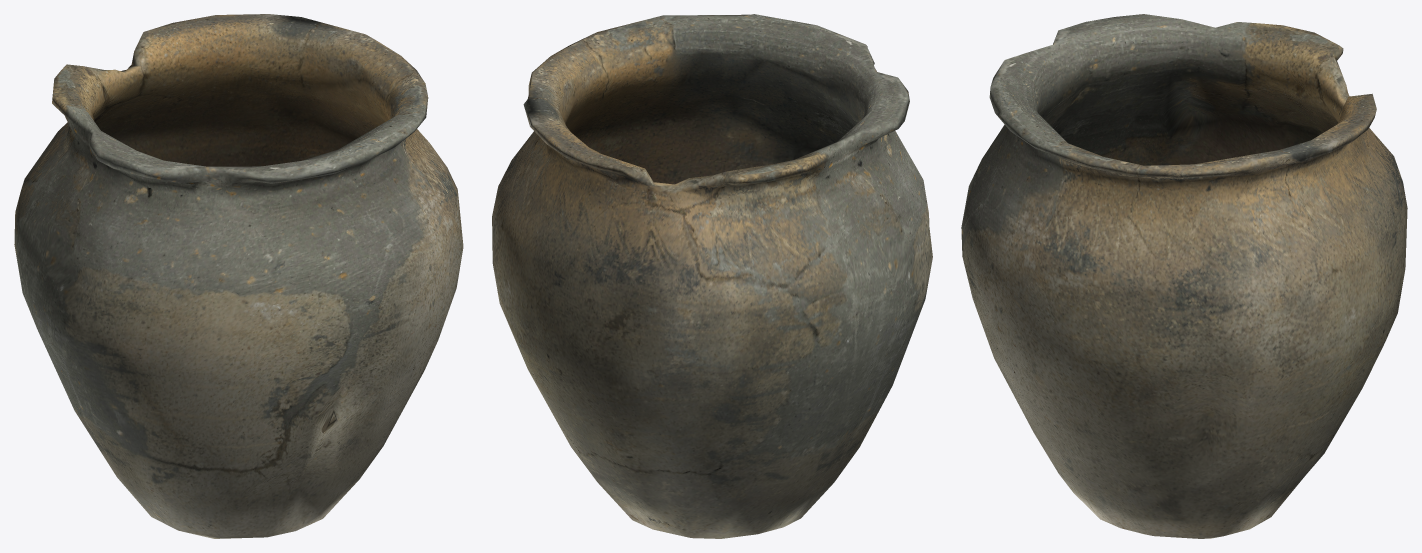
The model's file is Vessel_From_Zawada.fbx.
3 renders of one model, left to right at view 1: azimuth 30°, elevation 25°; view 2: azimuth 150°, elevation 25°; view 3: azimuth 270°, elevation 25°, orthographic.
Visible parts, largest first — view 1: Vessel_From_Zawada_LOD0; view 2: Vessel_From_Zawada_LOD0; view 3: Vessel_From_Zawada_LOD0.
Part boxes in pixels (x1,y1,x2,y2): Vessel_From_Zawada_LOD0: (14, 14, 463, 538); Vessel_From_Zawada_LOD0: (492, 14, 932, 538); Vessel_From_Zawada_LOD0: (961, 14, 1407, 538).
Size of what is drawn, in the model's own units: 46.16 by 47.16 by 45.94.
1 material, 1 textured.
